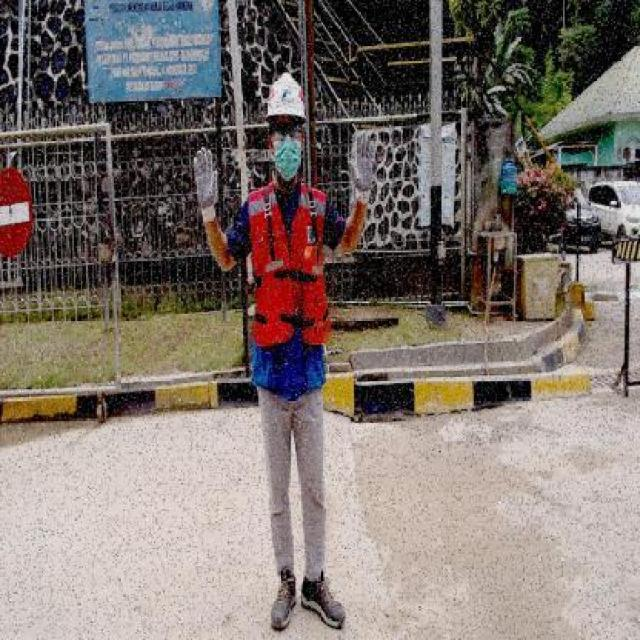Boots: (299, 567, 347, 630), (270, 567, 298, 631)
Gloves: (347, 128, 375, 206), (192, 144, 218, 224)
Helmet: (267, 72, 305, 121)
Mask: (274, 138, 301, 182)
Protective Glasses: (272, 121, 303, 139)
Vest: (251, 240, 332, 349)
